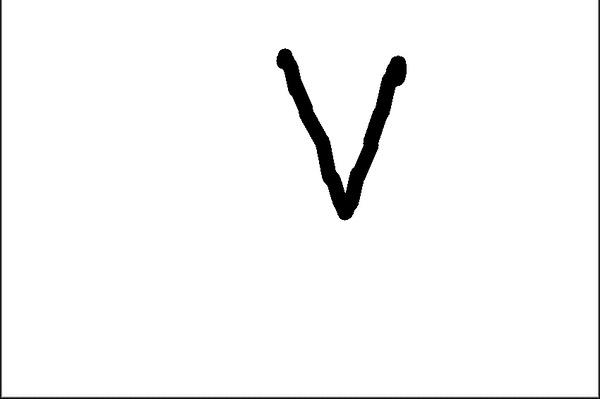V: (262, 32, 429, 228)
